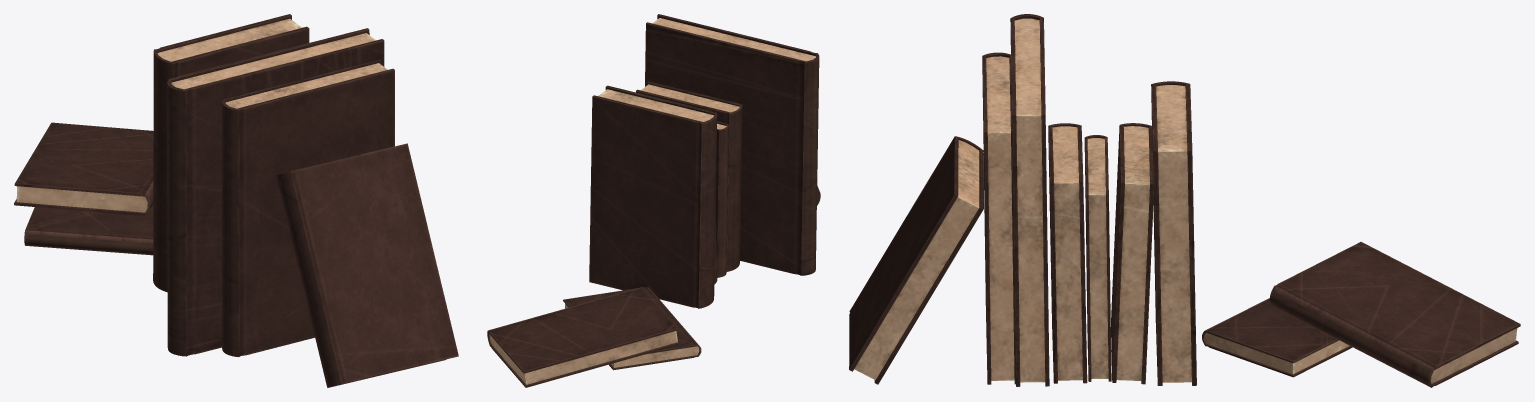
Rendered from books.glb.
The picture shows the model from 3 angles, left to right: view 1: azimuth 30°, elevation 25°; view 2: azimuth 150°, elevation 25°; view 3: azimuth 270°, elevation 25°; orthographic projection. The views are drawn at different scales.
Parts seen in each view (by area): view 1: polySurface42; view 2: polySurface42; view 3: polySurface42.
Part boxes in pixels (left/top/right/bottom): polySurface42: left=14, top=14, right=458, bottom=387; polySurface42: left=487, top=14, right=820, bottom=387; polySurface42: left=849, top=14, right=1520, bottom=387.
Size of the model in its own units: 1.41 by 1.7 by 3.76.
2 materials, 2 textured.
